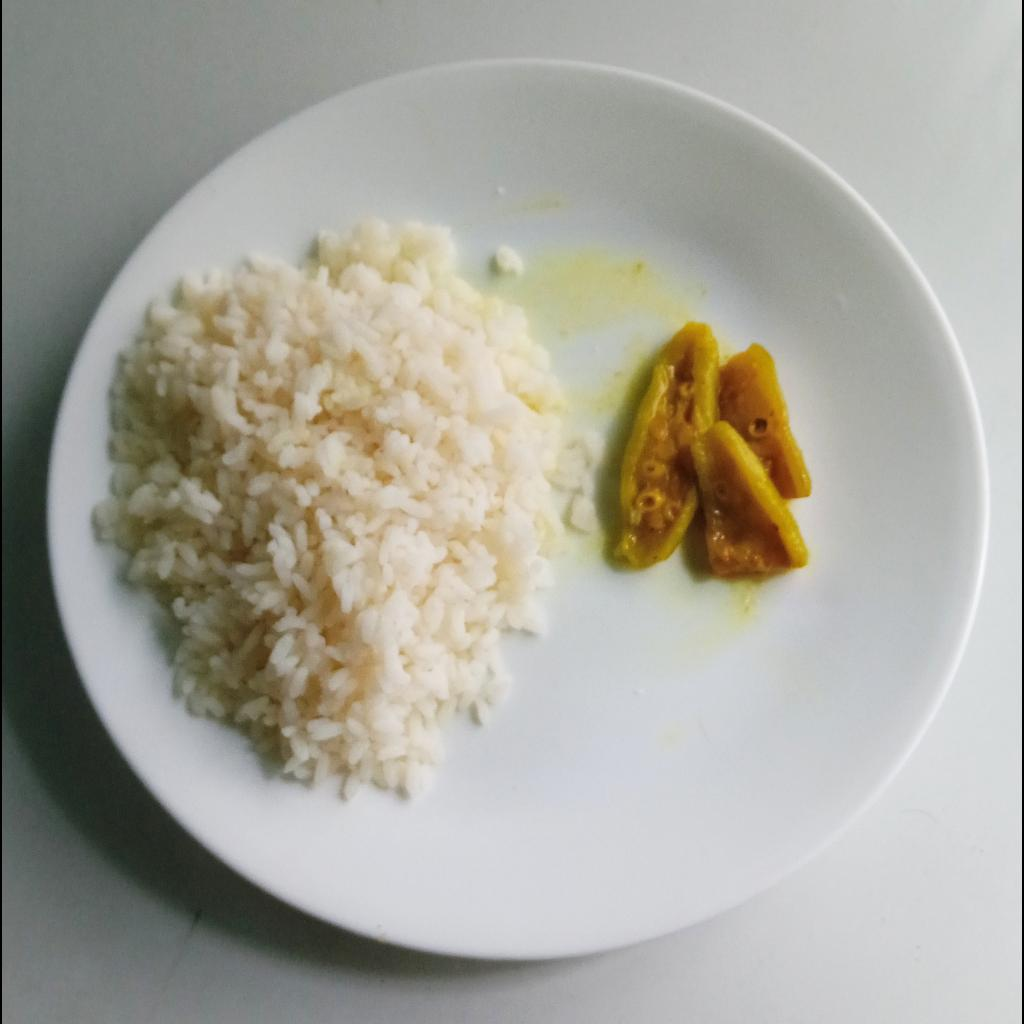potol: (614, 318, 814, 575)
rice: (92, 219, 614, 809)
